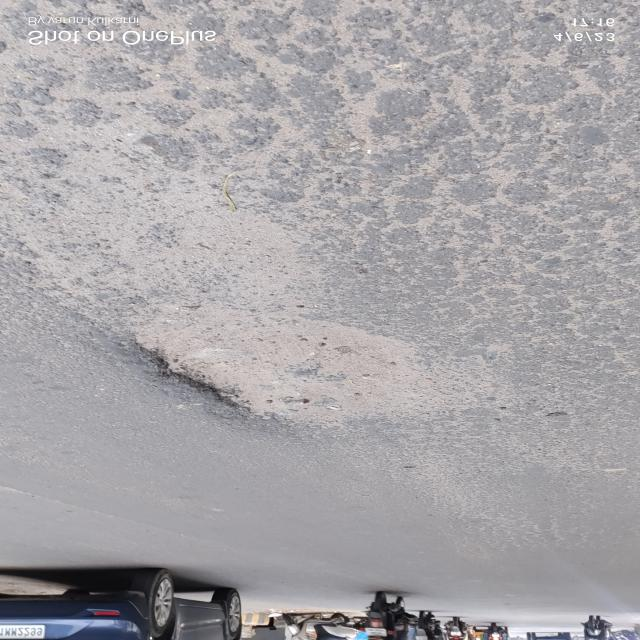potholes: (74, 266, 465, 433)
